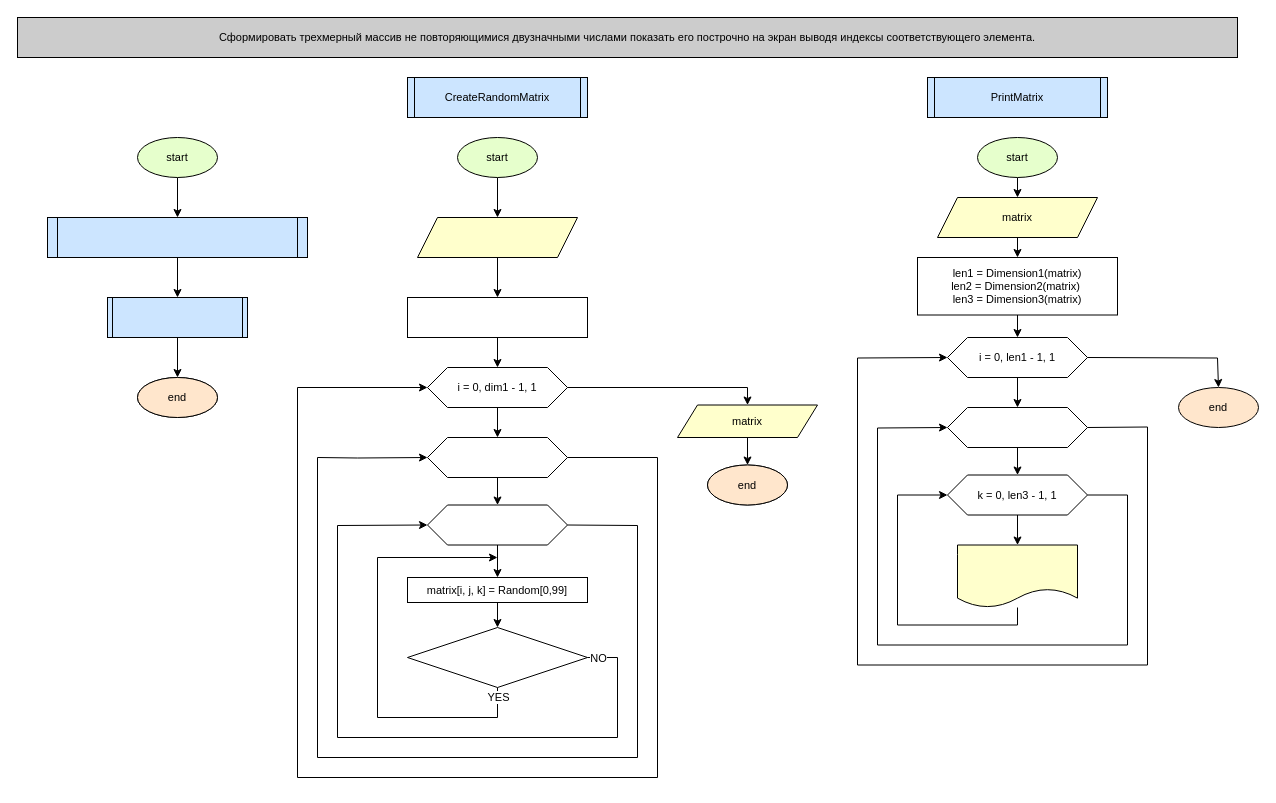
Some shapes in this 1276 by 803 pixel diagram are drawn without their labels. The centre of each missing label's shape, as x and y in pixels:
dim1, dim2, dim3, limit: pixel 497 237
j = 0, dim2 - 1, 1: pixel 497 457
j = 0, len2 - 1, 1: pixel 1017 427
k = 0, dim3 - 1, 1: pixel 497 524
matrix = CreateRandomMatrix(3, 5, 6, 100): pixel 177 237
matrix[i, j, k]: pixel 1017 576
matrix[i, j, k] ∈ originValue: pixel 497 657
originValue[] matrix[dim1, dim2, dim3]: pixel 497 317
PrintMatrix (matrix): pixel 177 317
